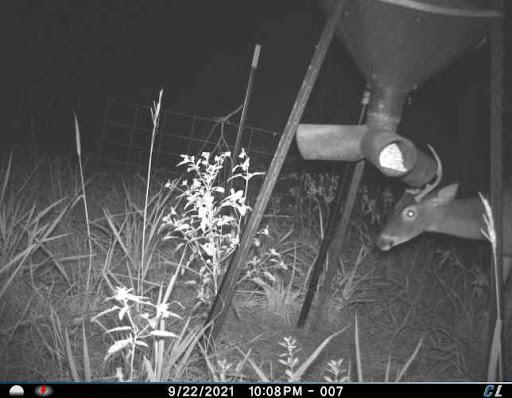Deer: (379, 142, 512, 279)
